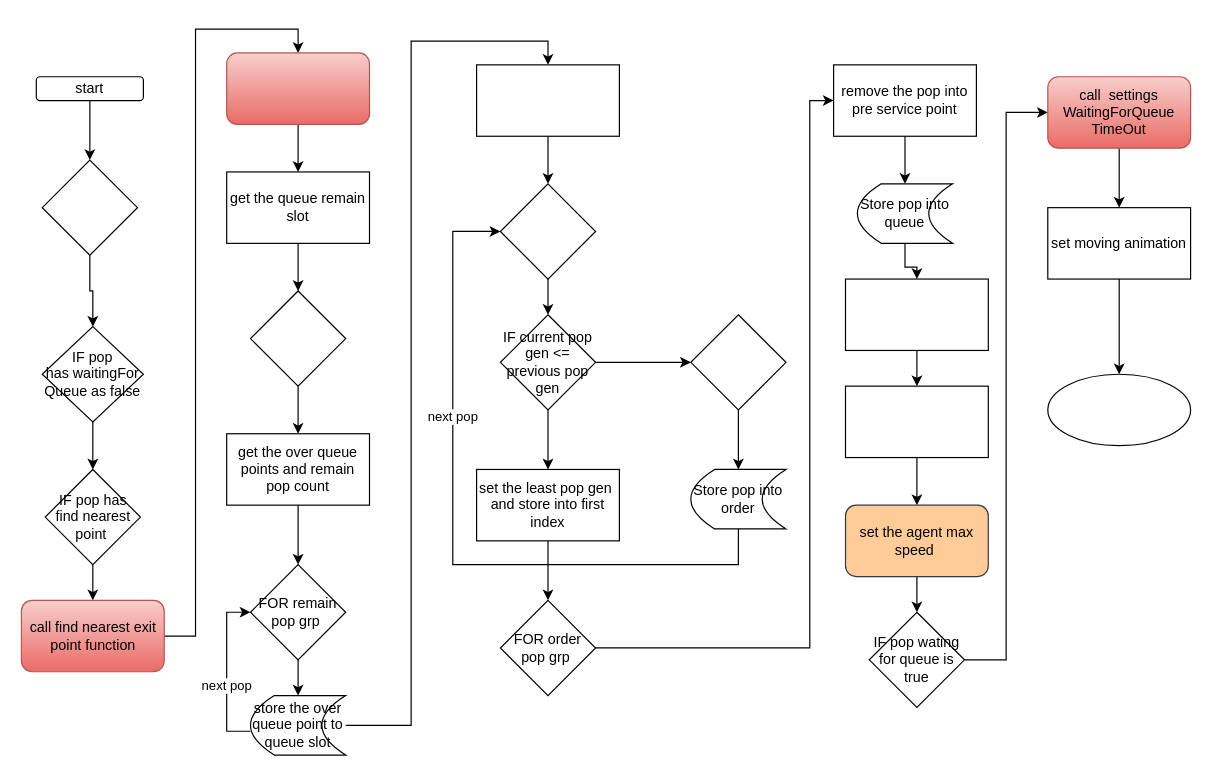
The diagram is 1211 pixels wide and 776 high, and some of its shapes have lost their labels. The centre of each missing label's shape, as x and y in pixels:
"call set for queue waiting patience value and return" belongs at point (297, 88).
"ELSE" belongs at point (738, 362).
"end" belongs at point (1119, 409).
"FOR pop grp" belongs at point (547, 231).
"get the q slot and set target to pop" belongs at point (916, 314).
"IF pop in queue >= queue slot" belongs at point (89, 207).
"IF remain slot < pop grp length" belongs at point (297, 338).
"initialize the pop grp generation order" belongs at point (547, 100).
"set pop as point given flag" belongs at point (916, 421).
